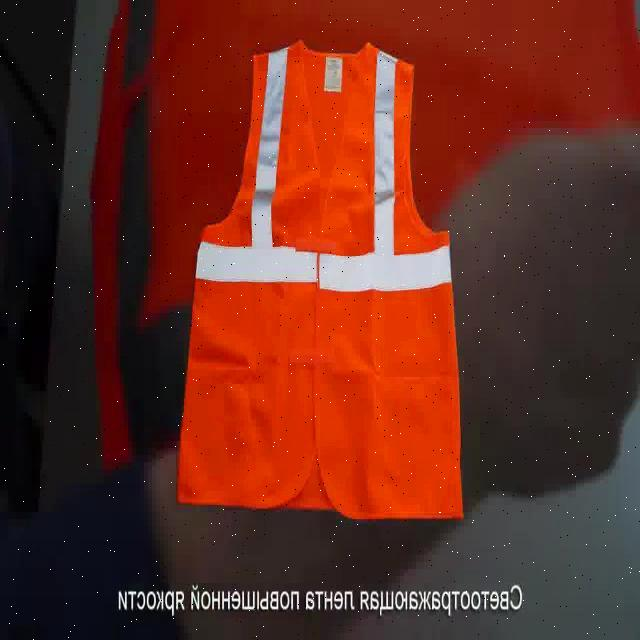Vest: (190, 13, 456, 506)
